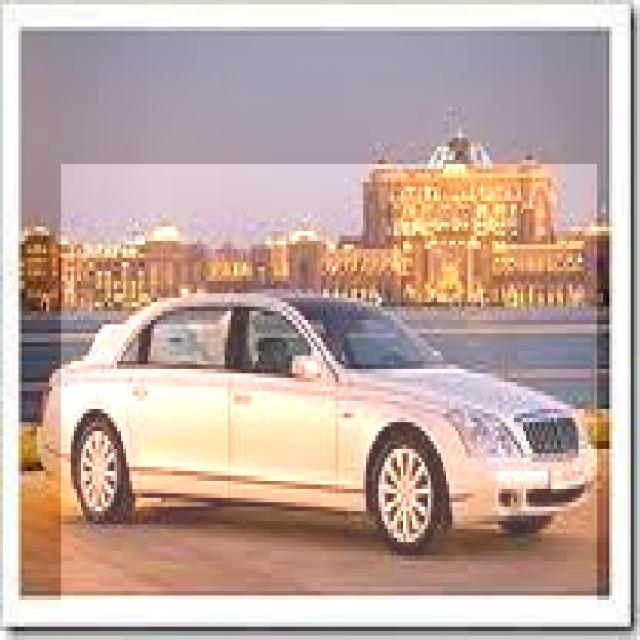Car: (61, 164, 597, 614)
